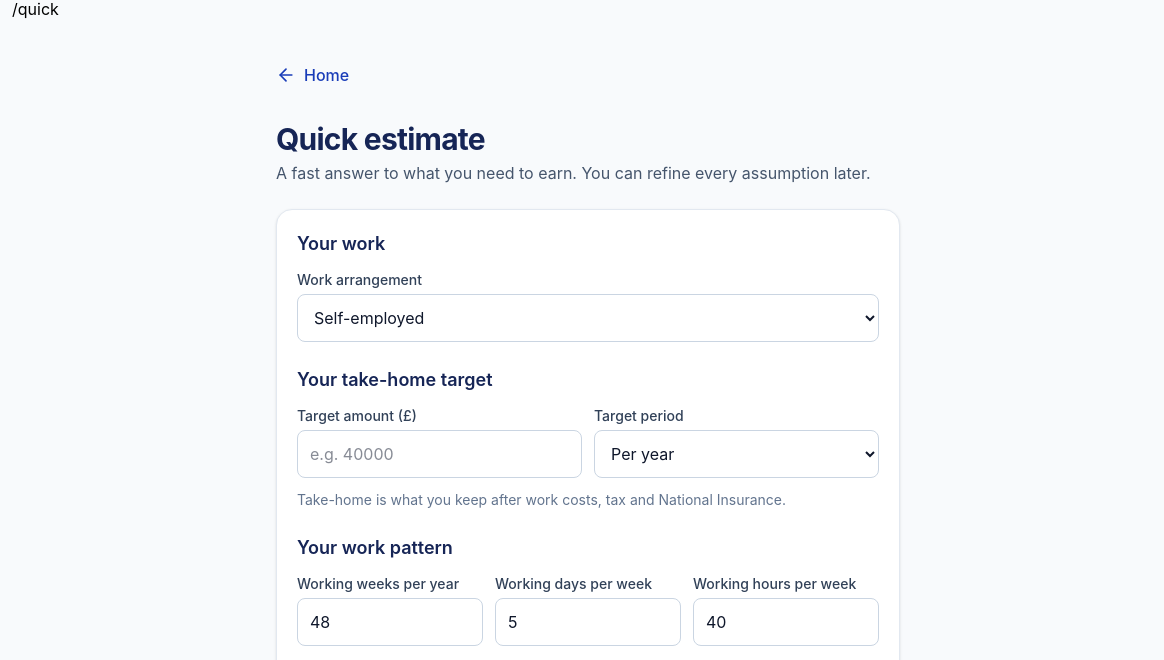
Test: QuickEstimate › switches to gross salary for employed workers
Select "Employed" in the dropdown labelled "Work arrangement": (588, 318) [297,294,879,342]
(page scrolled)
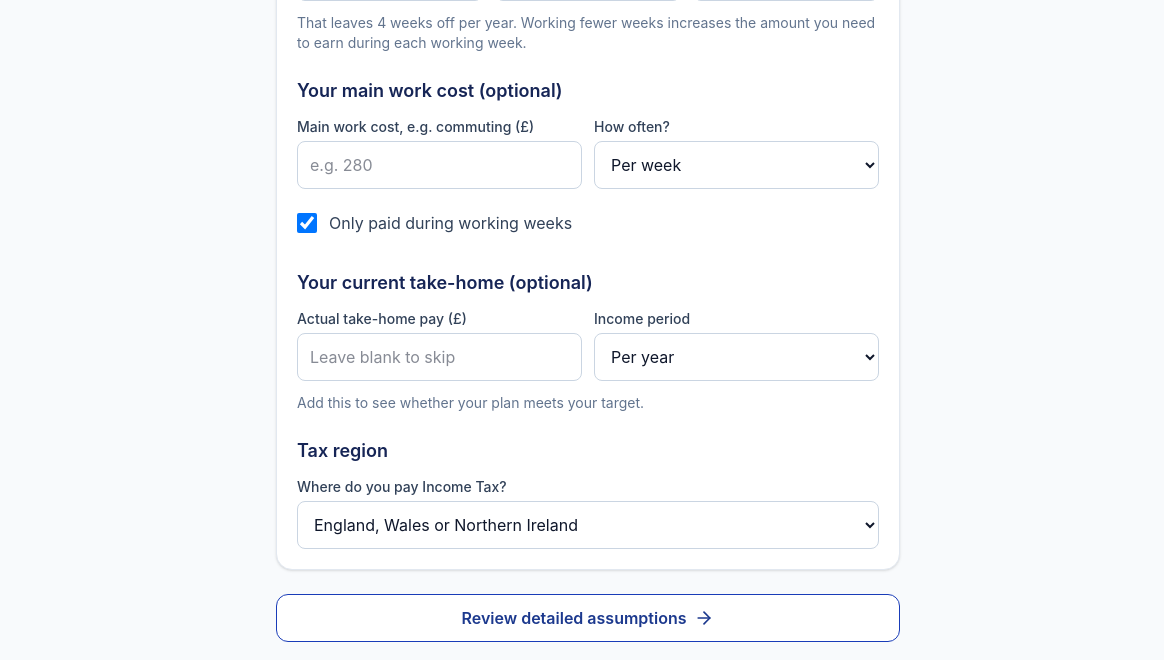
In the field labelled "Actual take-home pay (£)": (440, 357) [297,333,582,381], type "30000"
(page scrolled)
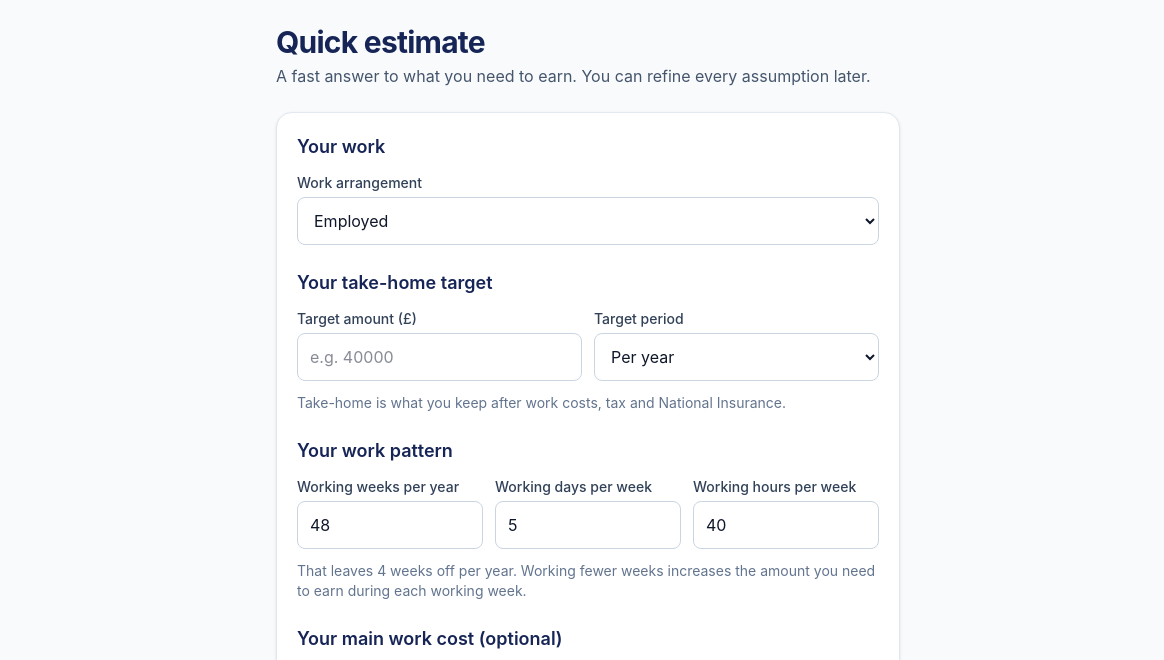
In the field labelled "Target amount (£)": (440, 357) [297,333,582,381], type "30000"
(page scrolled)
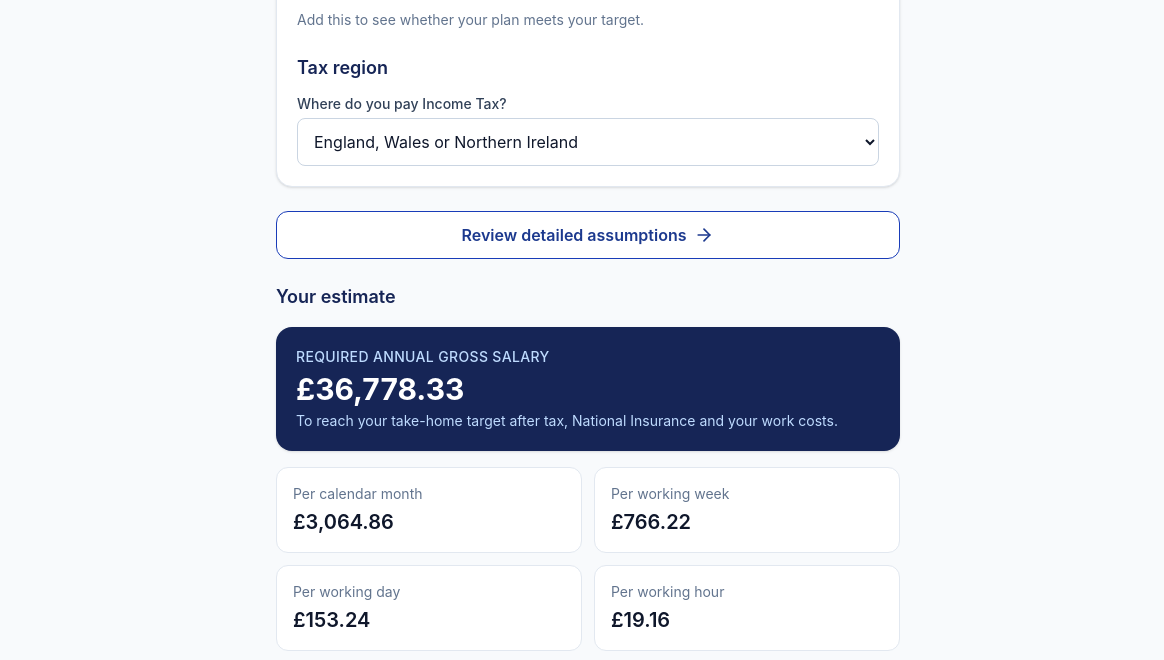
Now the heading "Required annual gross salary" is shown, box [296,348,550,365]
